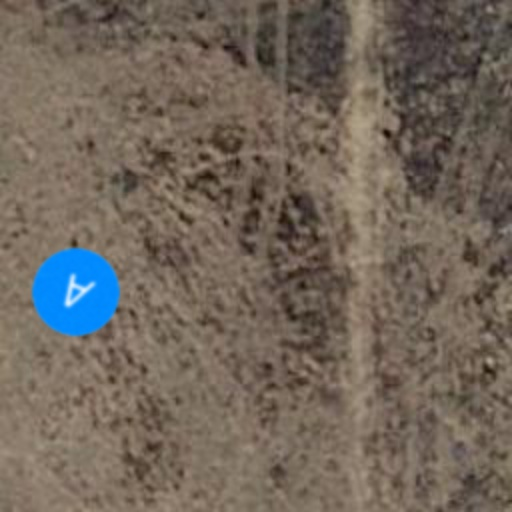circle: (18, 234, 134, 350)
